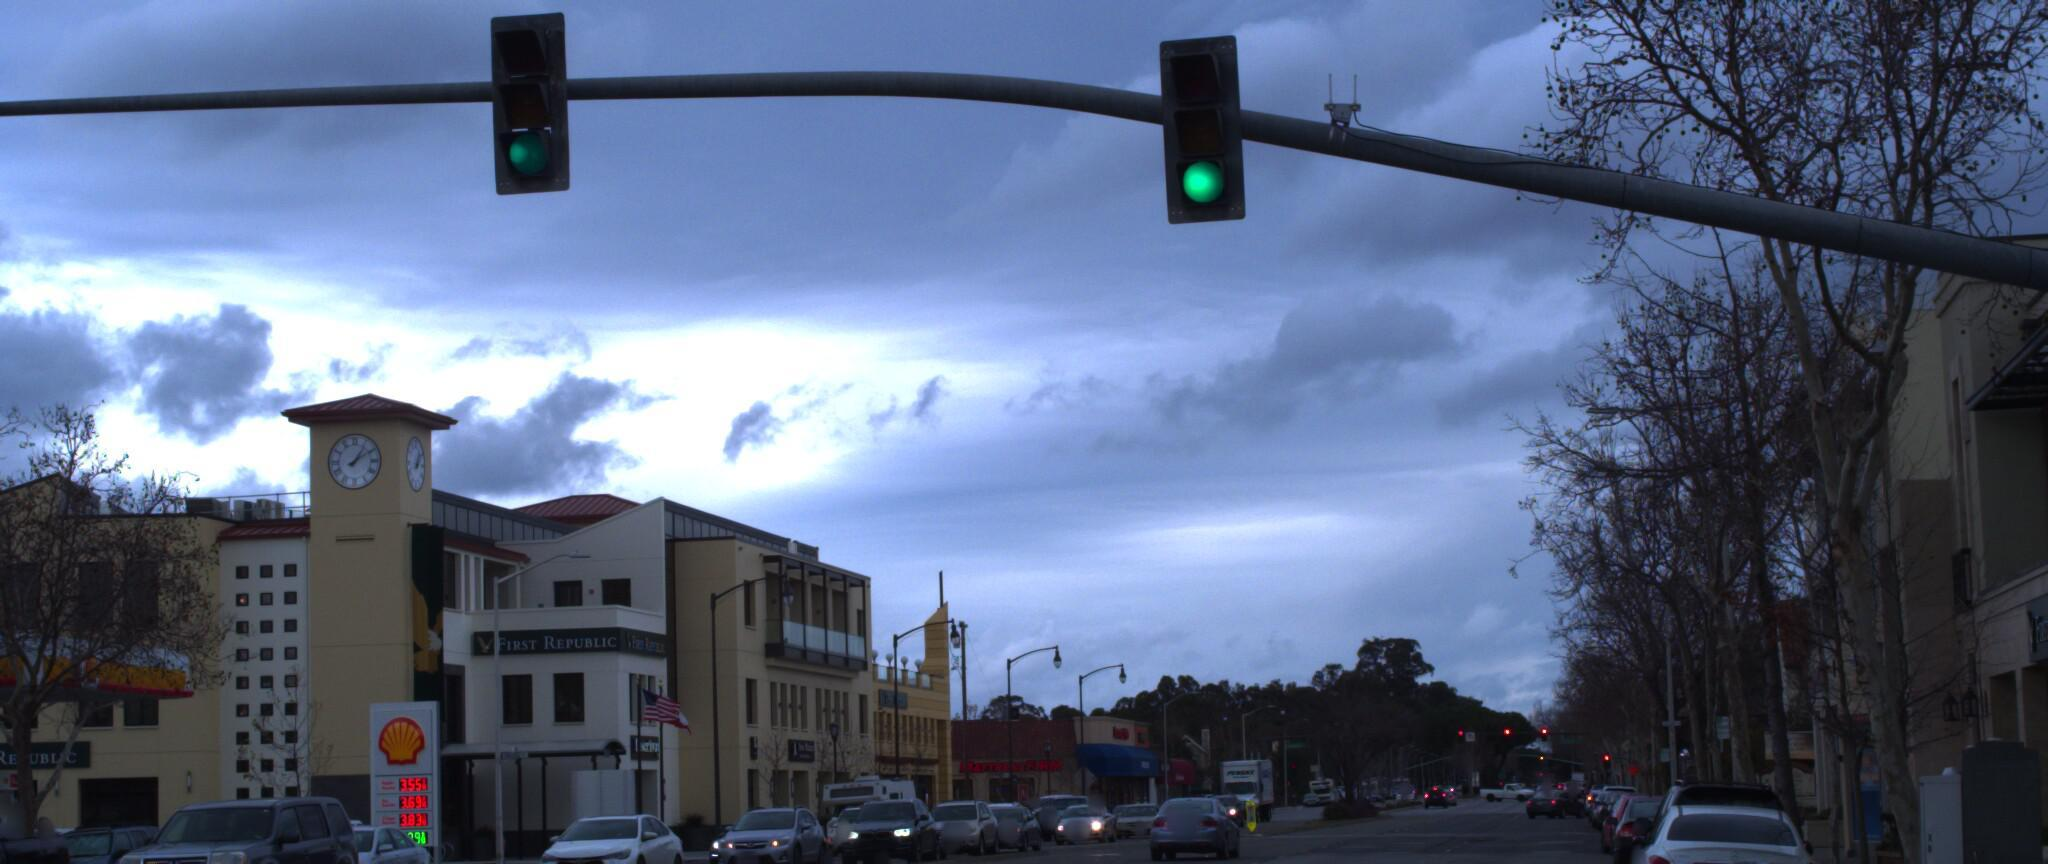car: (1738, 736, 2048, 864), (90, 790, 383, 864), (1603, 794, 1826, 864), (0, 814, 191, 864), (519, 809, 687, 864), (259, 818, 452, 864), (1130, 770, 1236, 844), (1593, 797, 1708, 864), (714, 803, 828, 864), (822, 797, 923, 863), (0, 791, 80, 864)
